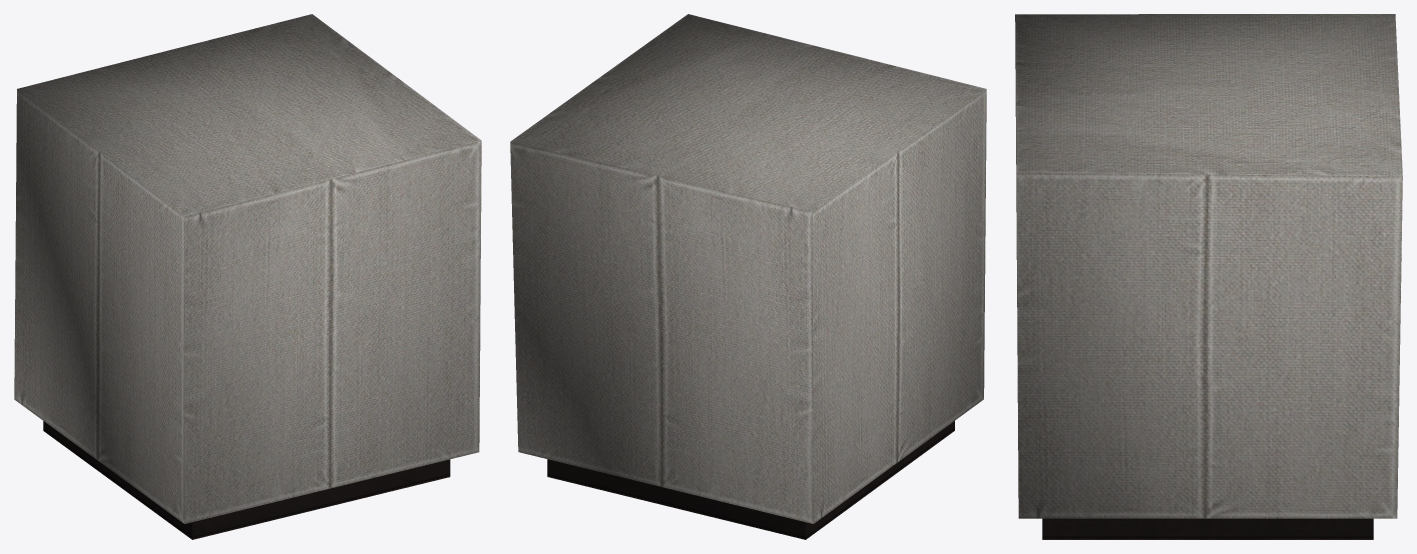
File: test_p_karma_club_ottoman_square_lod2.glb
The picture shows the model from 3 angles, left to right: view 1: azimuth 30°, elevation 25°; view 2: azimuth 150°, elevation 25°; view 3: azimuth 270°, elevation 25°; orthographic projection. The views are drawn at different scales.
Parts seen in each view (by area): view 1: surf0, surf1; view 2: surf0, surf1; view 3: surf0, surf1.
Part boxes in pixels (x1,y1,x2,y2): surf0: [14, 14, 481, 523]; surf1: [43, 421, 450, 539]; surf0: [510, 14, 986, 523]; surf1: [547, 421, 954, 539]; surf0: [1015, 14, 1402, 518]; surf1: [1042, 518, 1373, 539].
Size of the model in its own units: 18.2 by 19.97 by 18.22.
